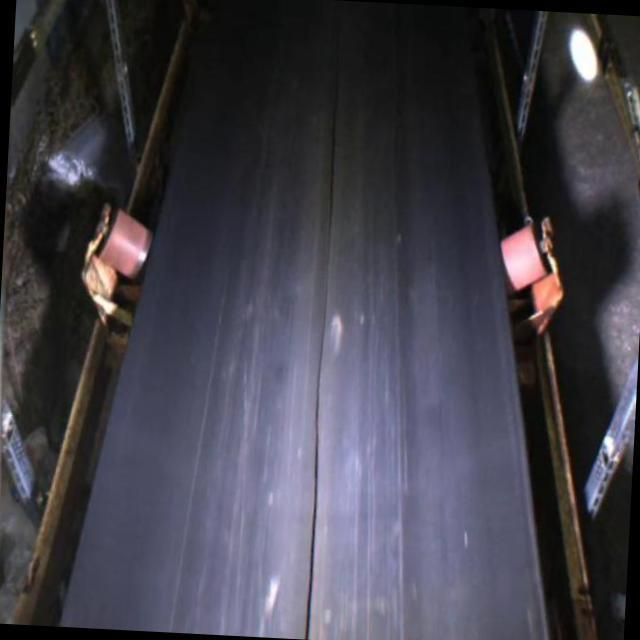Tear: (297, 0, 352, 640)
